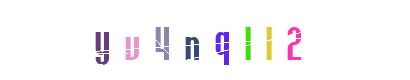2: (253, 0, 333, 80)
4: (122, 0, 202, 80)
L: (208, 0, 288, 80), (229, 0, 309, 80)
N: (165, 0, 245, 80)
Q: (183, 0, 263, 80)
V: (118, 0, 198, 80)
Y: (100, 0, 180, 80)
